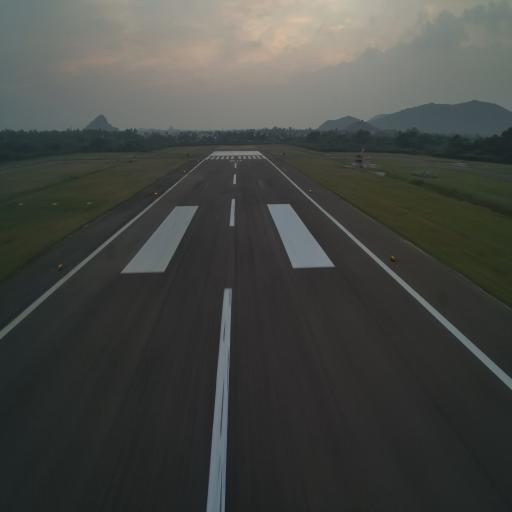on: (388, 252, 396, 268), (56, 260, 64, 270)
